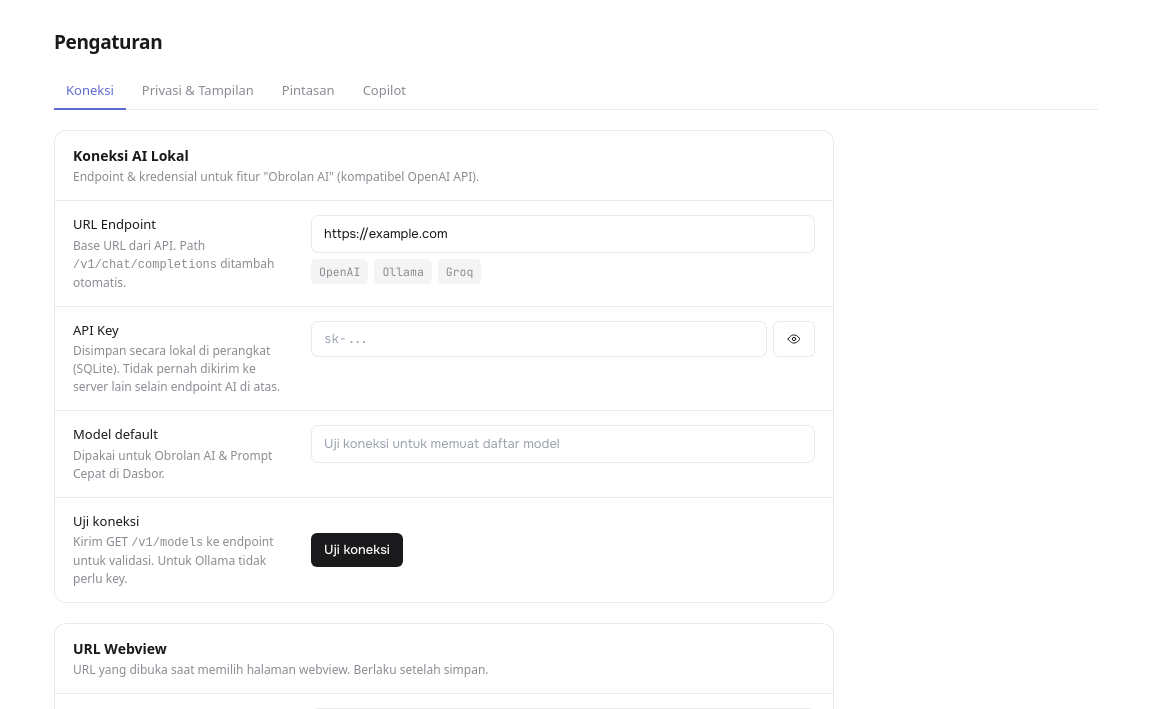
Test: AI model selection › ignores an in-flight response when the endpoint changes
The image size is (1152, 709).
Click the button "Uji koneksi": (357, 550) left=311, top=533, right=403, bottom=566
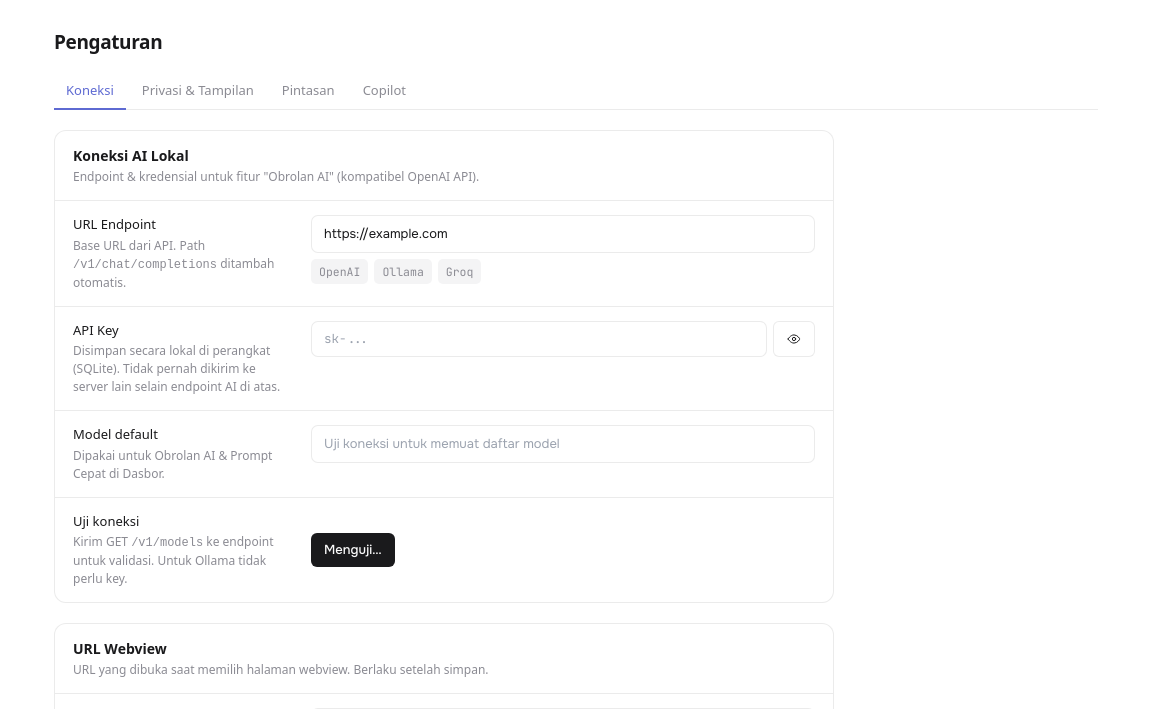
Replace the text in the field with placeholder "https://api.openai.com" next to "Base URL dari API. Path" with "https://other.example.com": (563, 234) left=311, top=215, right=815, bottom=252
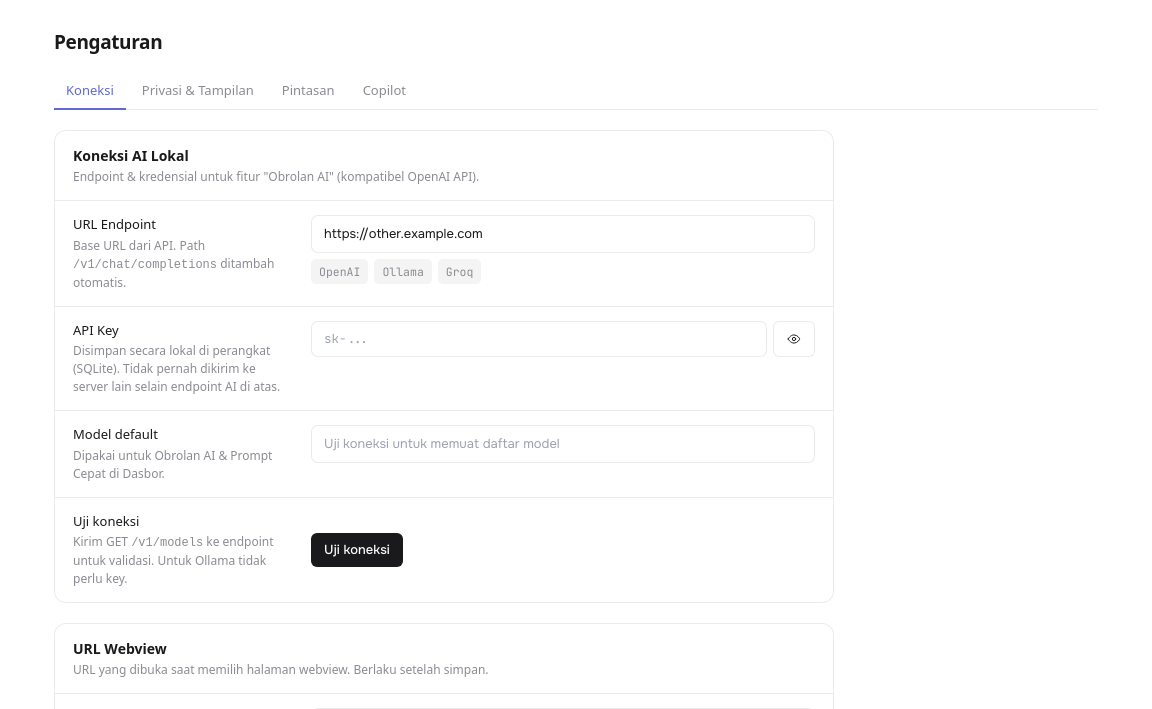
Expected: the button "Uji koneksi" is enabled, left=311, top=533, right=403, bottom=566
